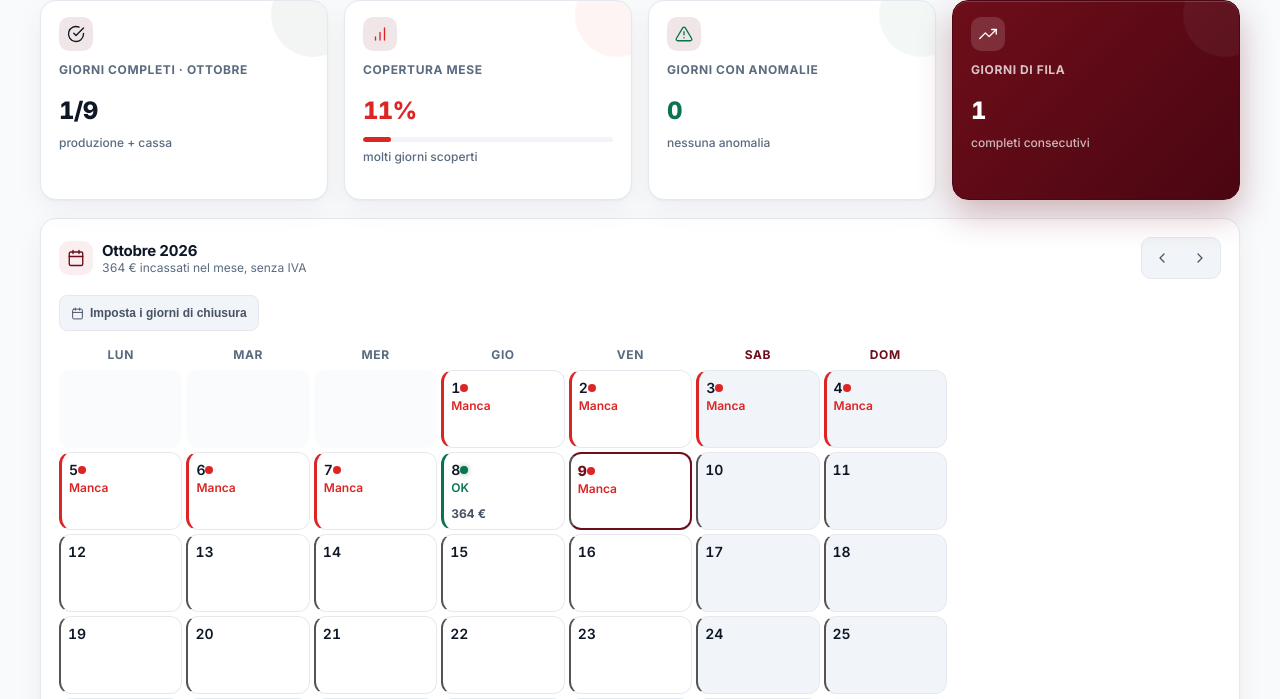
La nota di una giornata › e si accende appena si scrive
Click the button "8 OK 364 €": click(503, 491) [441,452,565,530]
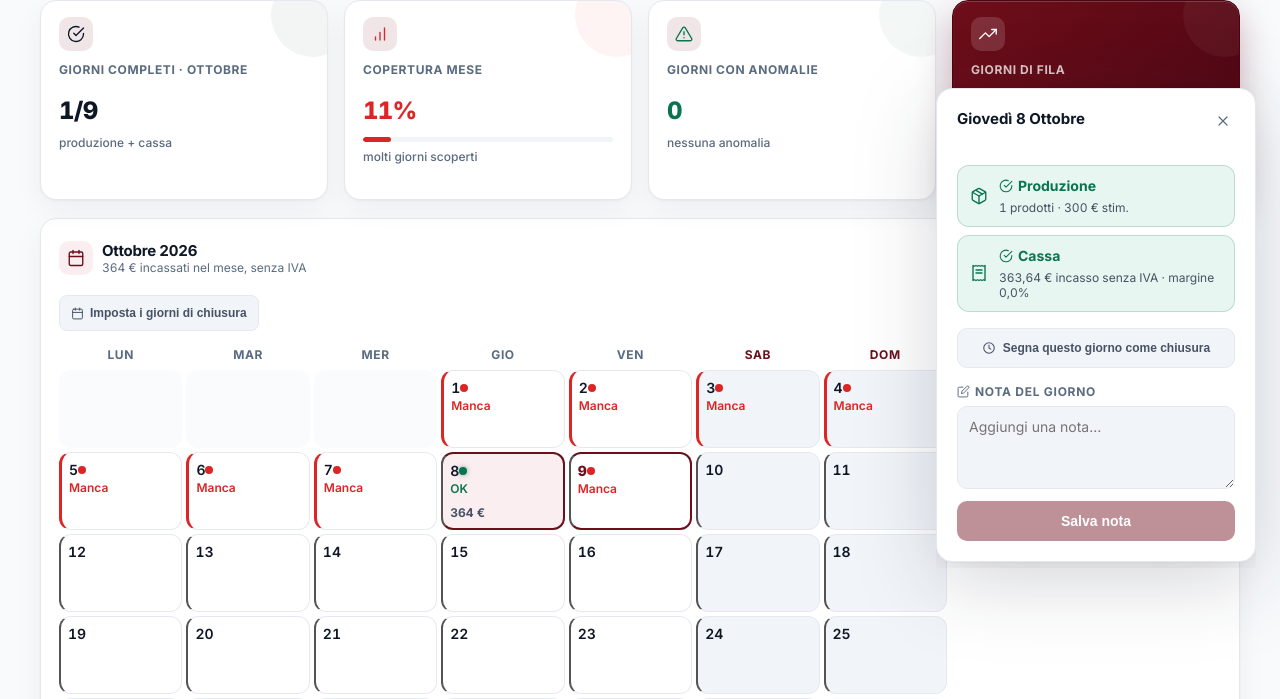
In the text box with placeholder "Aggiungi una nota…": (1096, 447) [957,406,1235,488], type "grandine"
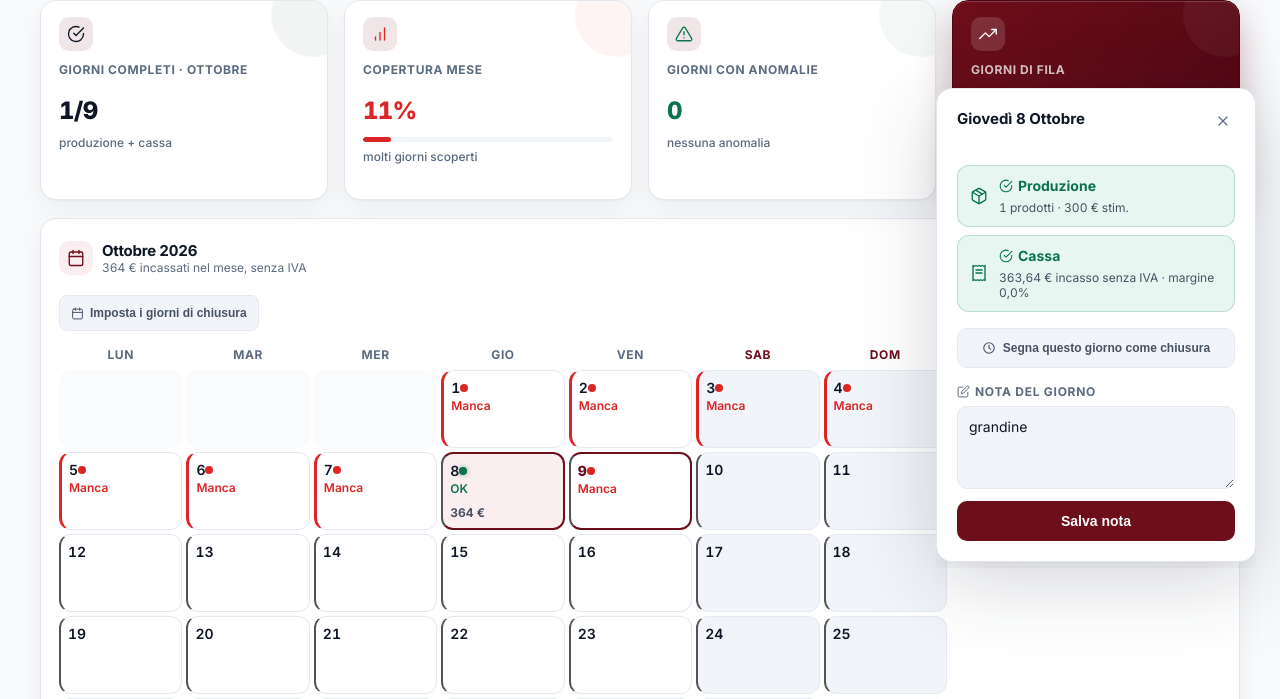
Now the button "Salva nota" is enabled, box [957,500,1235,540]
